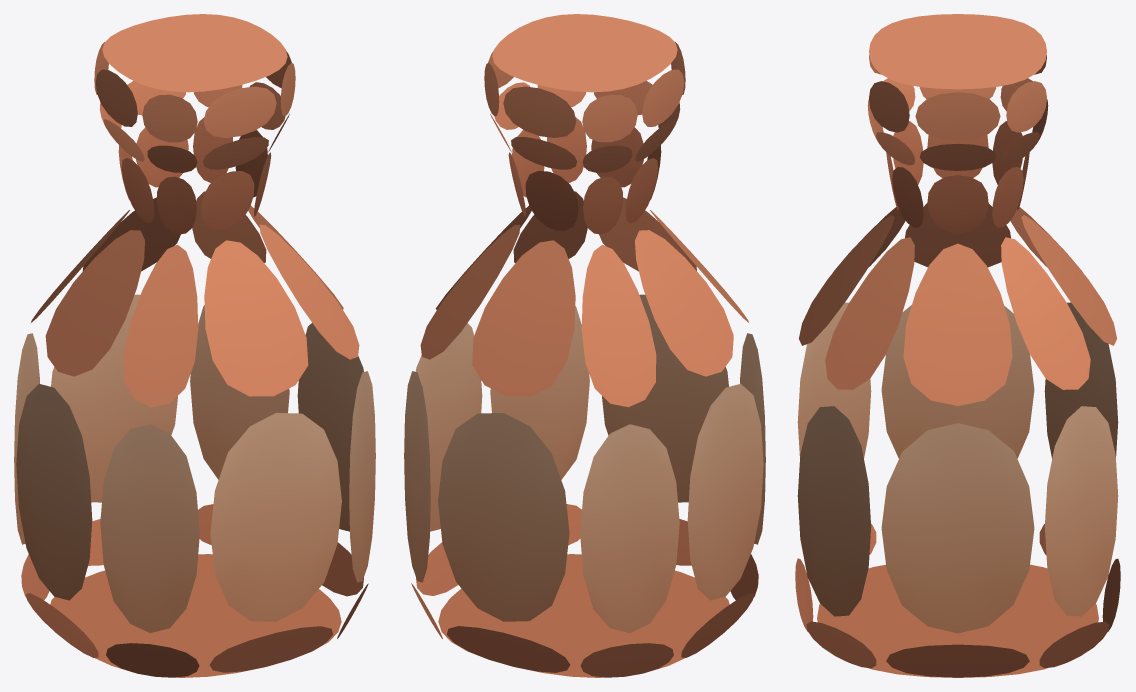
Rendered from bottle-large.glb.
3 views of the same model, side by side, from view 1: azimuth 30°, elevation 25°; view 2: azimuth 150°, elevation 25°; view 3: azimuth 270°, elevation 25° (orthographic).
Parts seen in each view (by area): view 1: bottle-large; view 2: bottle-large; view 3: bottle-large.
Boxes of the visible parts, box(x1,y1,x2,y2) form: bottle-large: box(14, 14, 375, 677); bottle-large: box(404, 14, 765, 677); bottle-large: box(795, 14, 1120, 677).
Bounding box in the file's own units: 0.4658 × 0.8905 × 0.4658.
1 material, 1 textured.
